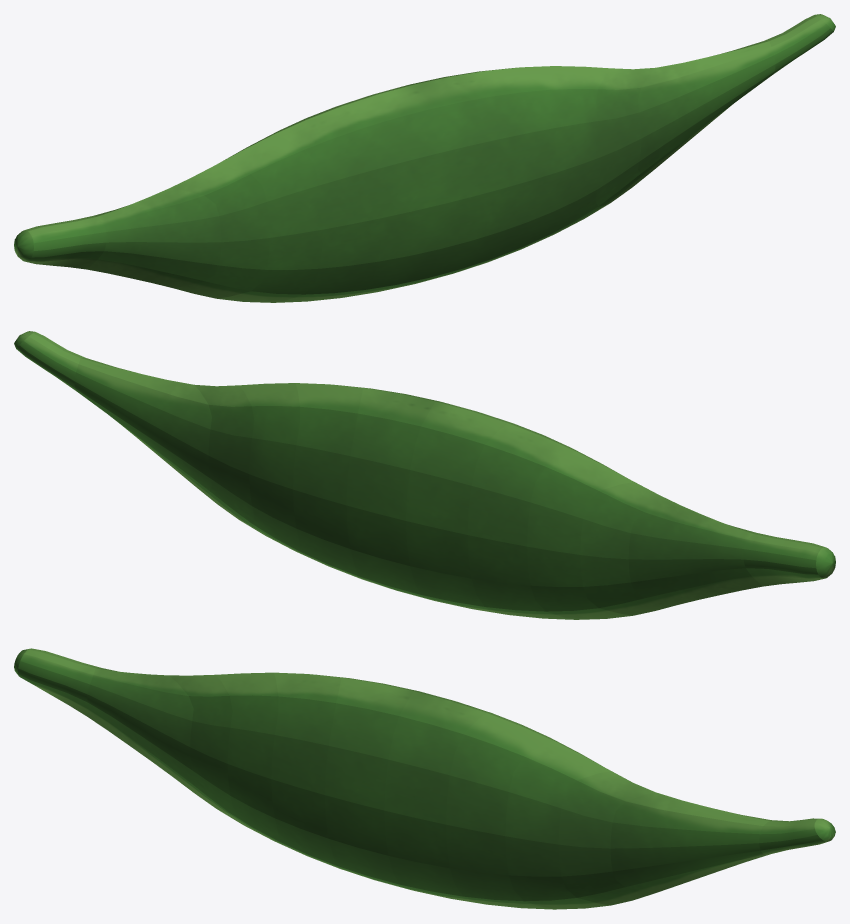
File: Patani.glb
The picture shows the model from 3 angles, top to bottom: view 1: azimuth 30°, elevation 25°; view 2: azimuth 150°, elevation 25°; view 3: azimuth 330°, elevation 25°; orthographic projection.
Visible parts, largest first — view 1: Bataw:pSphere1; view 2: Bataw:pSphere1; view 3: Bataw:pSphere1.
Boxes of the visible parts, x1,y1,x2,y2 form: Bataw:pSphere1: (14,14,835,302); Bataw:pSphere1: (14,331,835,619); Bataw:pSphere1: (14,648,835,909).
Bounding box in the file's own units: 4.49 × 1.05 × 0.5675.
Materials: 1 (1 with a texture image).
